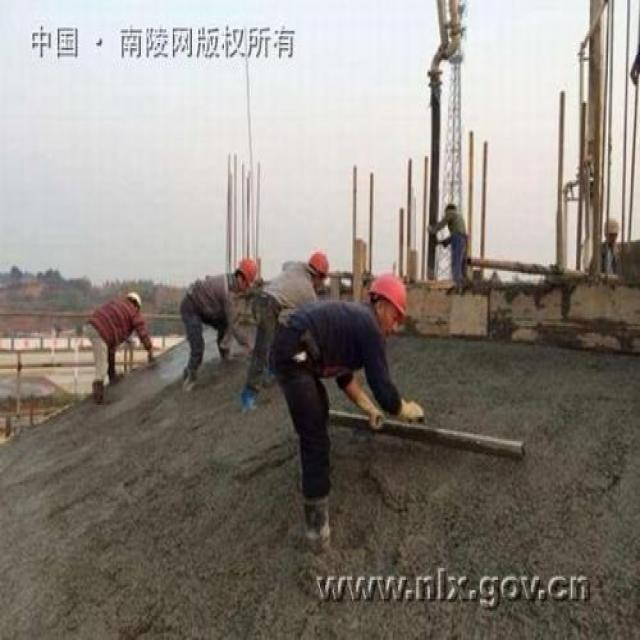hat: (365, 269, 413, 338), (303, 250, 334, 290), (232, 254, 258, 294), (123, 288, 146, 319)
